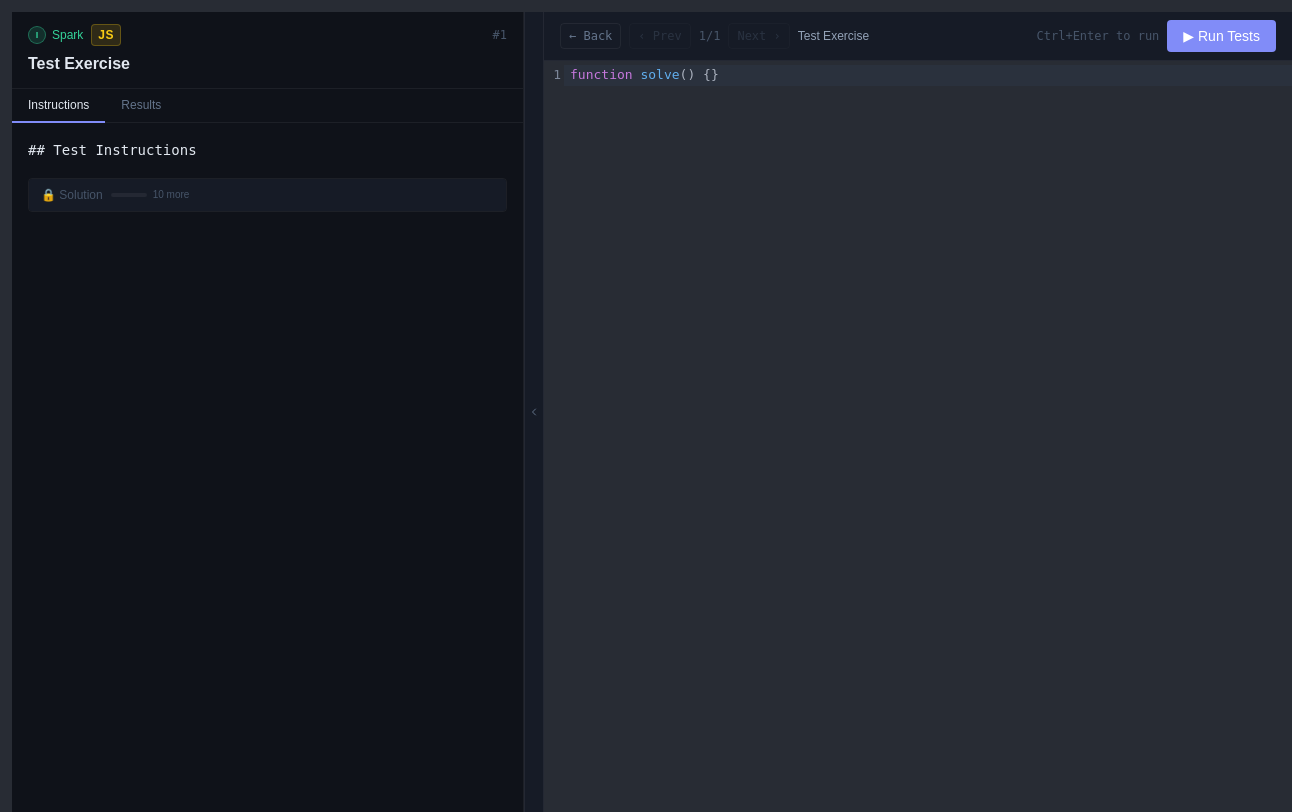
Scenario: Collapsible Instructions Panel › restores instructions panel when toggle clicked again
The width and height of the screenshot is (1292, 812).
Click the button named "Hide instructions panel".
click(534, 412)  # box x1=524 y1=12 x2=544 y2=811
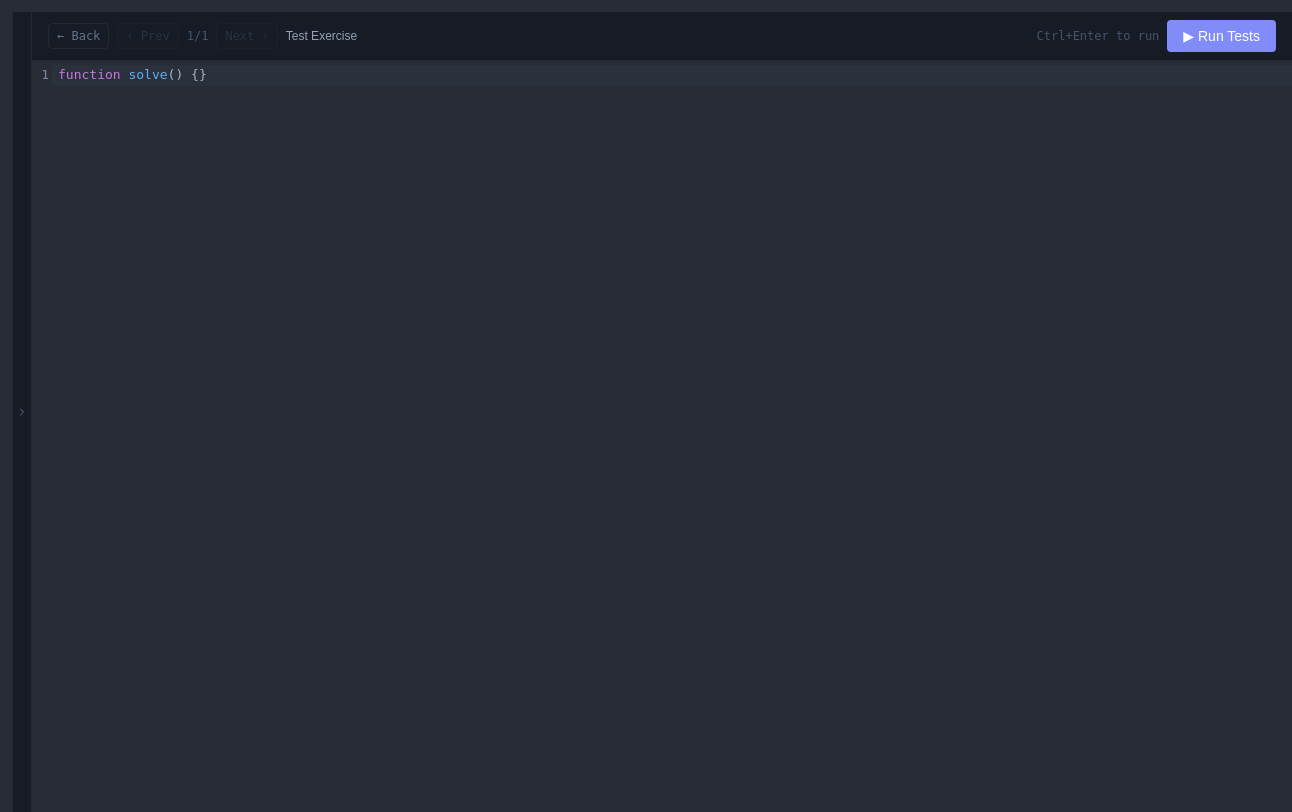
Expected: the tab "Instructions" is gone
Click the button named "Show instructions panel".
click(22, 412)  # box x1=12 y1=12 x2=32 y2=811
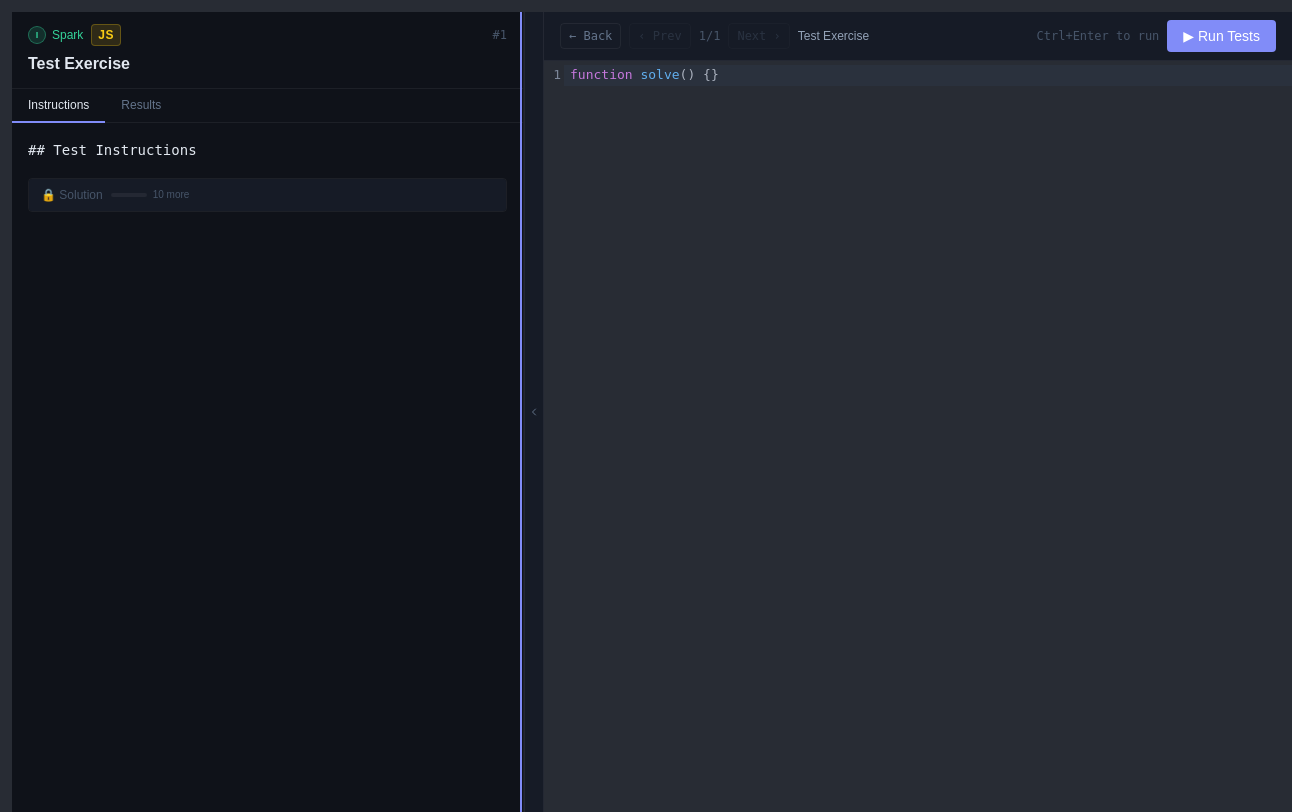
Expected: the tab "Instructions" is shown, x1=12 y1=89 x2=105 y2=123
